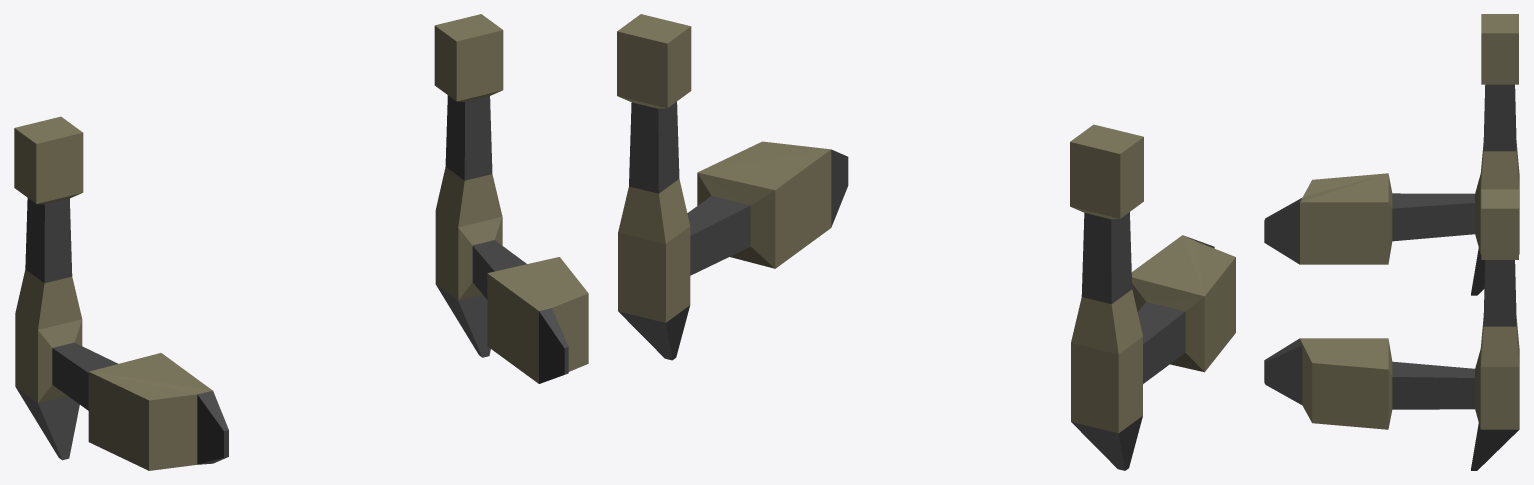
File: arm2.obj
3 views of the same model, side by side, from view 1: azimuth 30°, elevation 25°; view 2: azimuth 150°, elevation 25°; view 3: azimuth 270°, elevation 25° (orthographic). The views are drawn at different scales.
Visible parts, largest first — view 1: MechArm2; view 2: MechArm2; view 3: MechArm2.
Part boxes in pixels (x1,y1,x2,y2): MechArm2: (14, 14, 588, 470); MechArm2: (617, 14, 1235, 470); MechArm2: (1264, 14, 1519, 470).
Bounding box in the file's own units: 7.19 × 4.62 × 3.95.
Materials: 1 (1 with a texture image).
